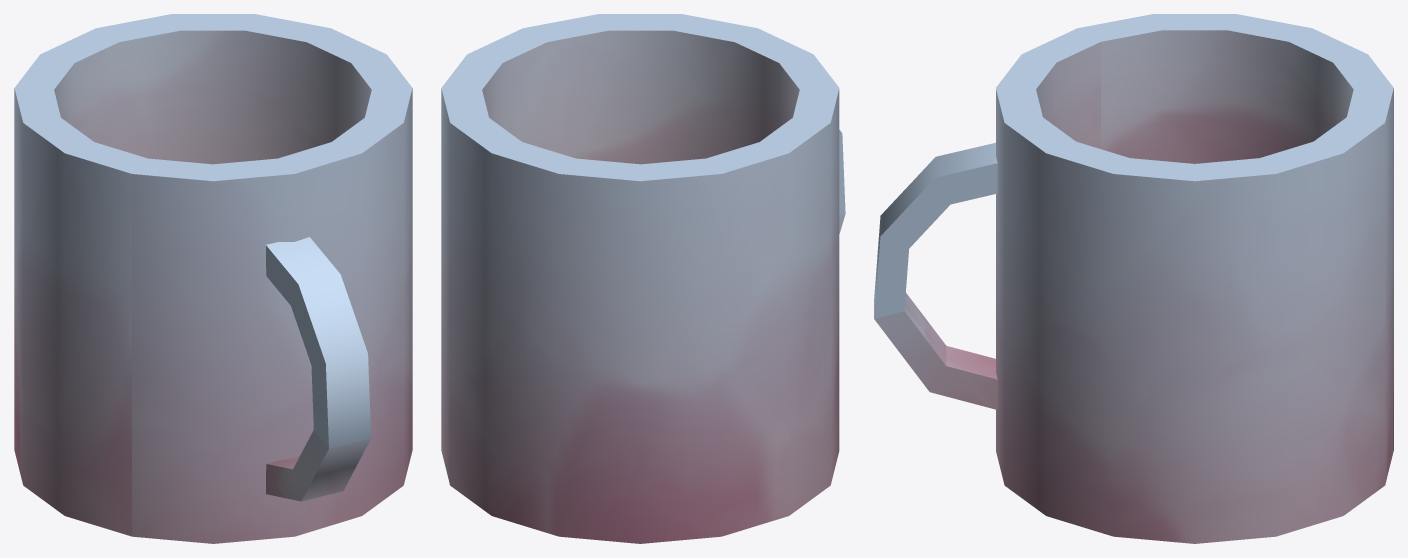
The model's file is Mug.fbx.
3 renders of one model, left to right at view 1: azimuth 30°, elevation 25°; view 2: azimuth 150°, elevation 25°; view 3: azimuth 270°, elevation 25°, orthographic.
Visible parts, largest first — view 1: Mug; view 2: Mug; view 3: Mug.
Part boxes in pixels (<box>): Mug: <box>14,14,412,543</box>; Mug: <box>441,14,845,543</box>; Mug: <box>874,14,1393,543</box>.
Size of the model in its own units: 15.9 by 16.07 by 20.87.
